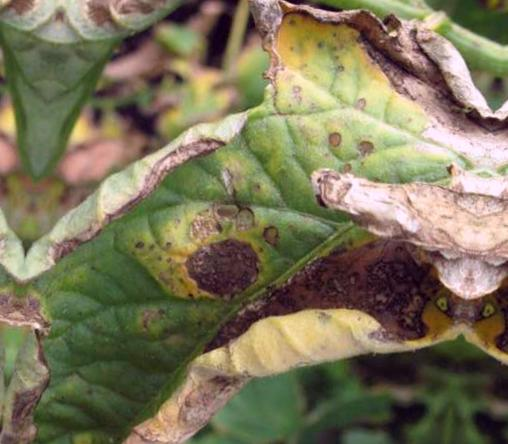Tomato Early blight leaf: (2, 0, 508, 444)
